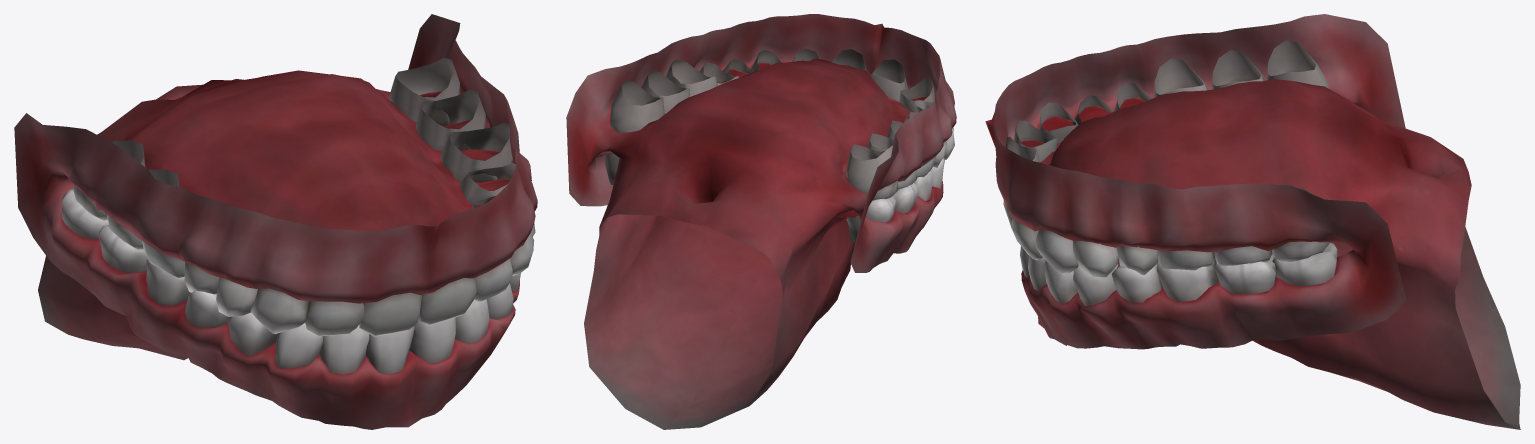
File: teeth.gltf
3 renders of one model, left to right at view 1: azimuth 30°, elevation 25°; view 2: azimuth 150°, elevation 25°; view 3: azimuth 270°, elevation 25°, orthographic. The views are drawn at different scales.
Parts seen in each view (by area): view 1: teeth; view 2: teeth; view 3: teeth.
Part boxes in pixels (x1,y1,x2,y2): teeth: (14, 14, 537, 429); teeth: (566, 14, 956, 429); teeth: (985, 14, 1520, 429).
Size of the model in its own units: 0.0573 by 0.0459 by 0.0699.
Materials: 1 (1 with a texture image).
